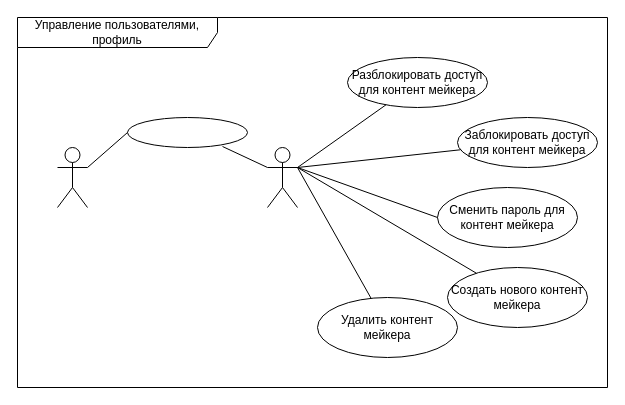
This 625x405 diagram has some shape labels left out. Here are the shapes that lost their labels. From the top down, the centre of each, then its label:
(187,132): Сменить свой пароль
(72,177): Контент мейкер
(282,177): Администратор
